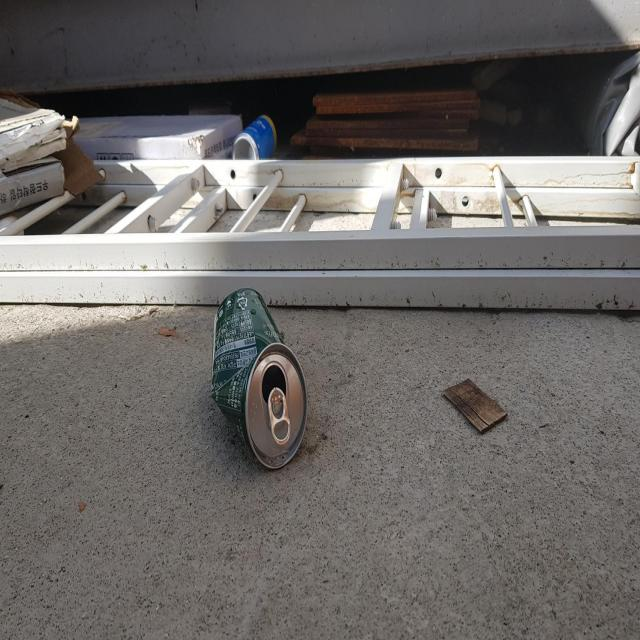can: (211, 287, 307, 468), (232, 114, 276, 159)
